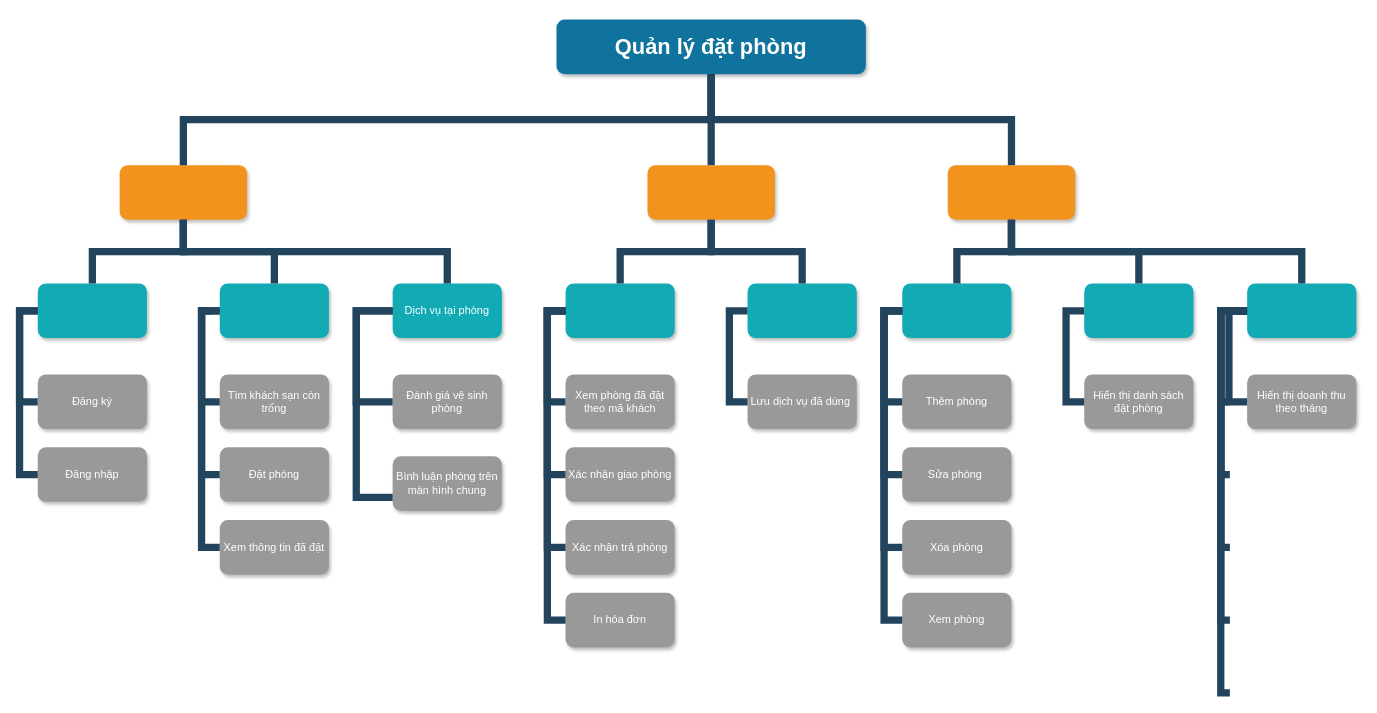
This 1377x713 diagram has some shape labels left out. The centre of each missing label's shape, as x and y in pixels:
Dịch vụ: (x=802, y=311)
Dịch vụ trên web: (x=275, y=311)
Khách hàng: (x=184, y=193)
Quản lý danh sách phòng: (x=957, y=311)
Quản lý danh sách đặt phòng: (x=1139, y=311)
Quản trị: (x=1012, y=193)
Thống kê doanh thu: (x=1302, y=311)
Tiếp tân: (x=711, y=193)
Tài khoản: (x=93, y=311)
Xử lý phòng: (x=620, y=311)
